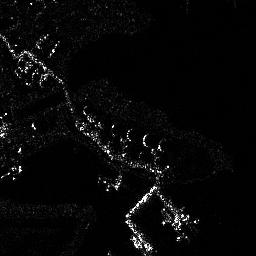ship: (160, 208, 189, 242), (127, 235, 148, 256)
